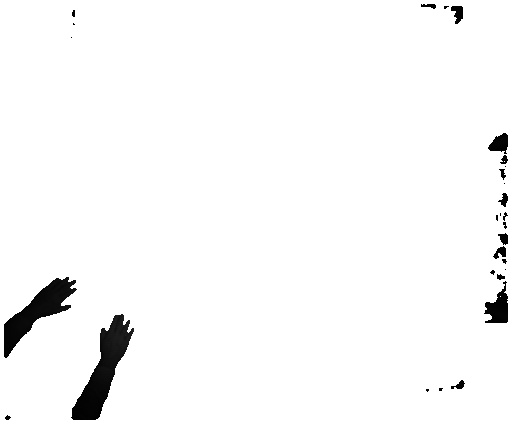hand: (29, 272, 79, 320), (100, 312, 135, 366)
